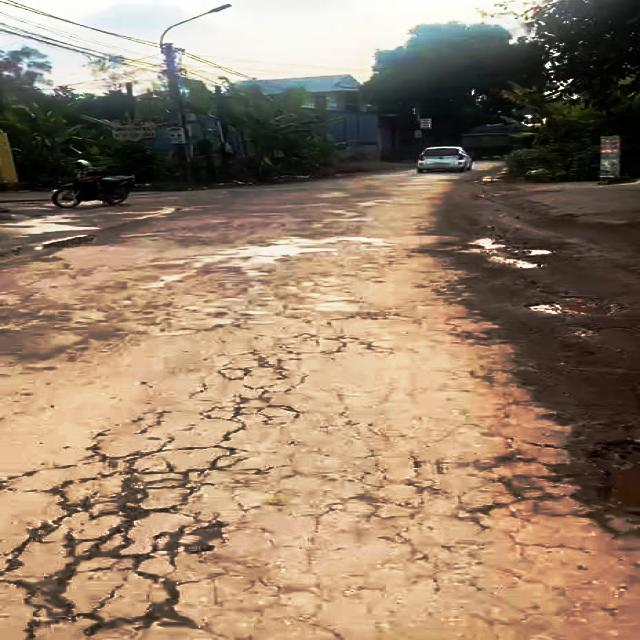pothole: (0, 450, 254, 640), (557, 427, 640, 537), (469, 236, 557, 270), (524, 294, 628, 318), (37, 231, 98, 251)
